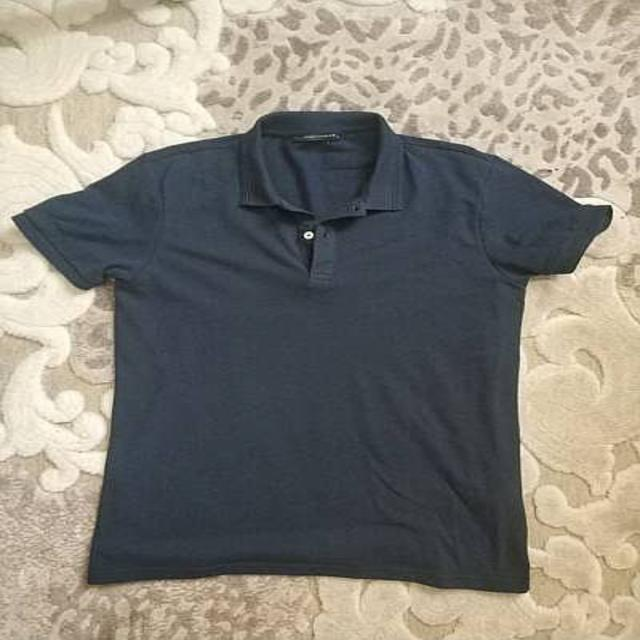T_SHIRT: (2, 97, 623, 596)
